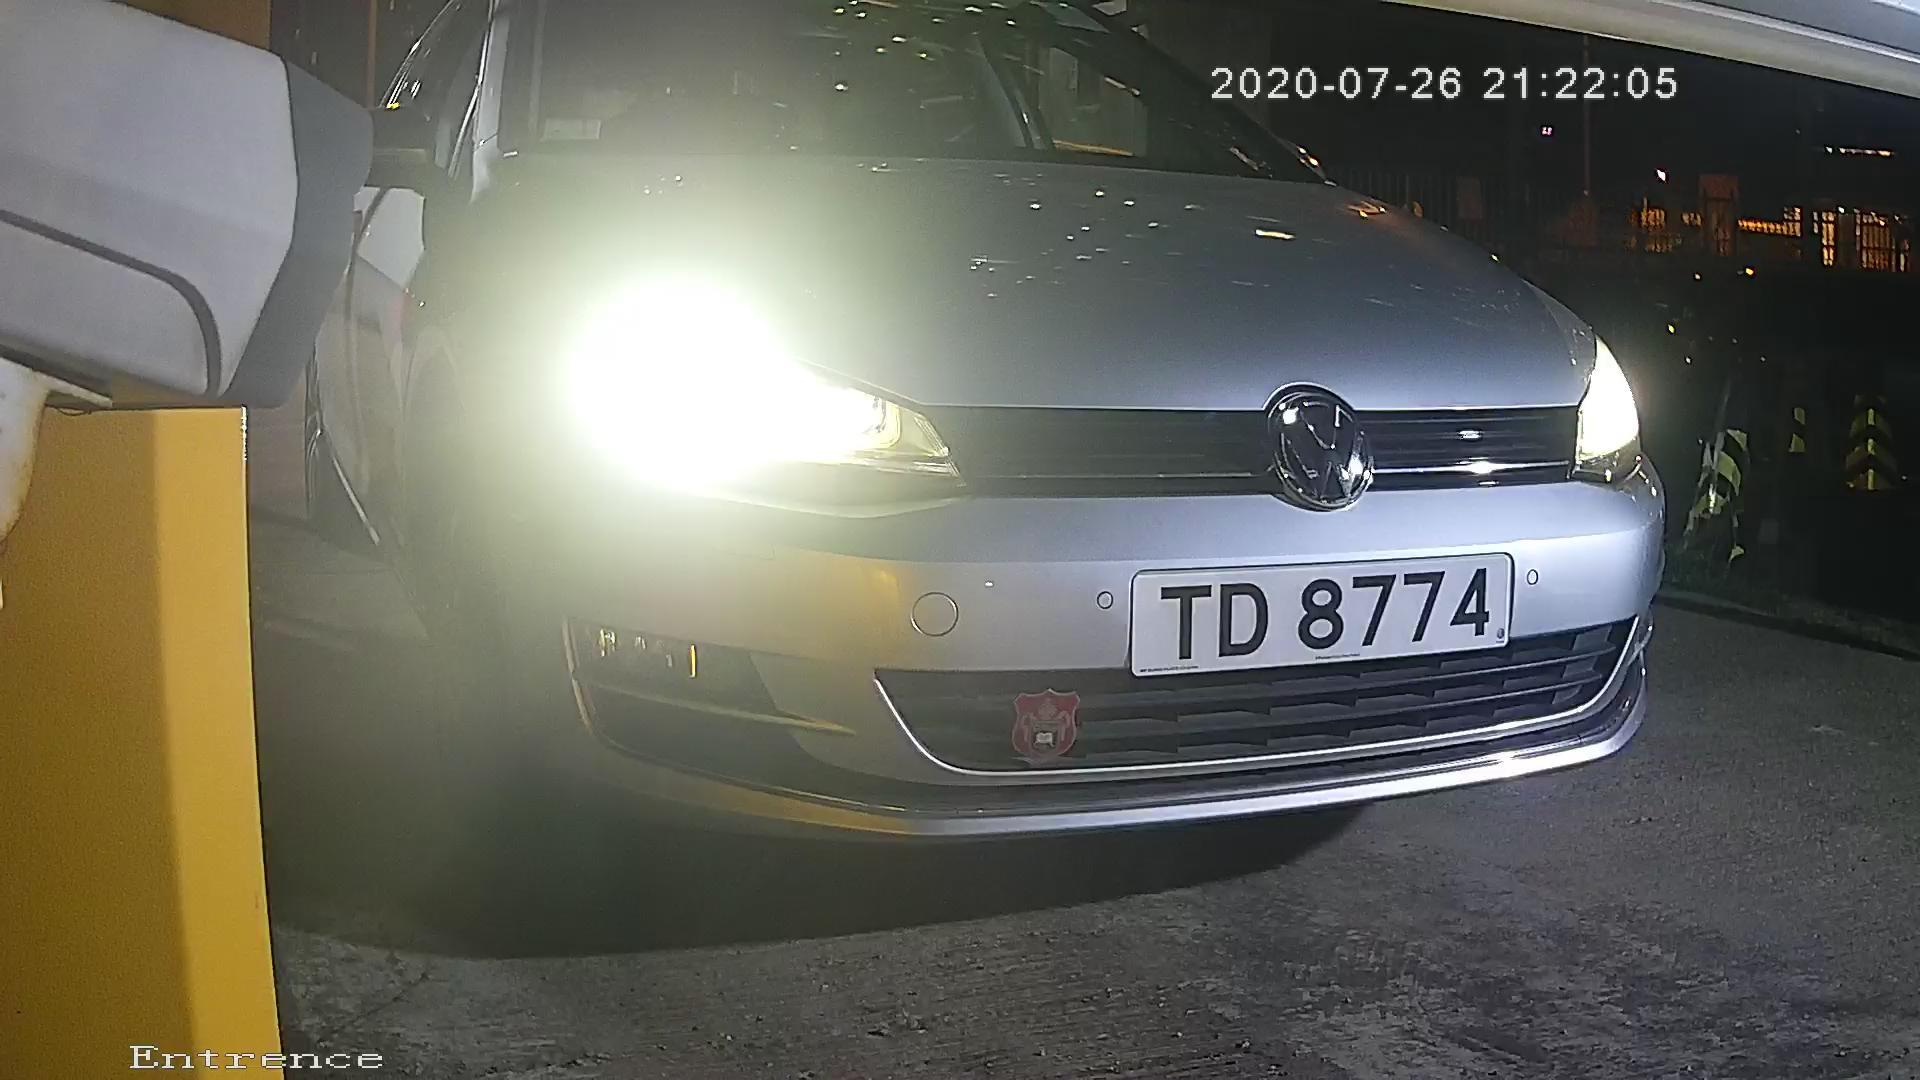Car: (103, 54, 1783, 888)
License Plate: (1115, 545, 1543, 675)
